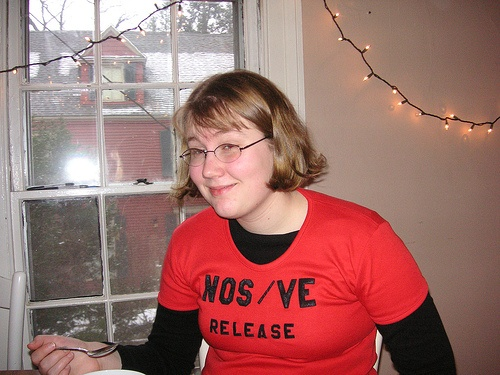head: (186, 70, 312, 221)
person: (22, 65, 475, 375)
